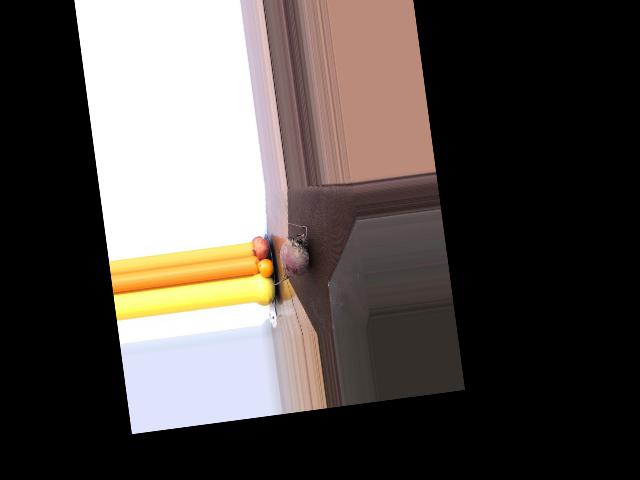beet: (262, 221, 314, 286)
